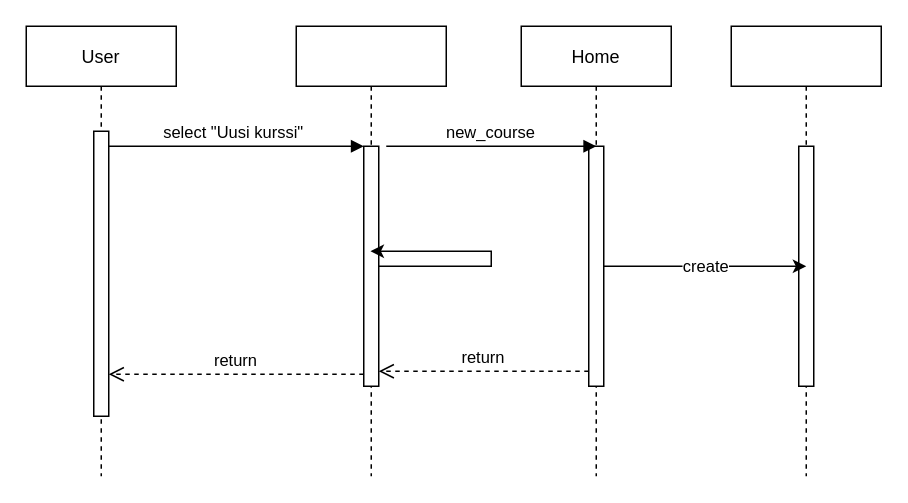
This 908x503 diagram has some shape labels left out. The shapes that lost their labels are listed below. From the top down, each one's box as (x1, y1, x2, y2) in pixels, then its label:
(295, 25, 446, 476): UI
(730, 25, 881, 476): Repository
